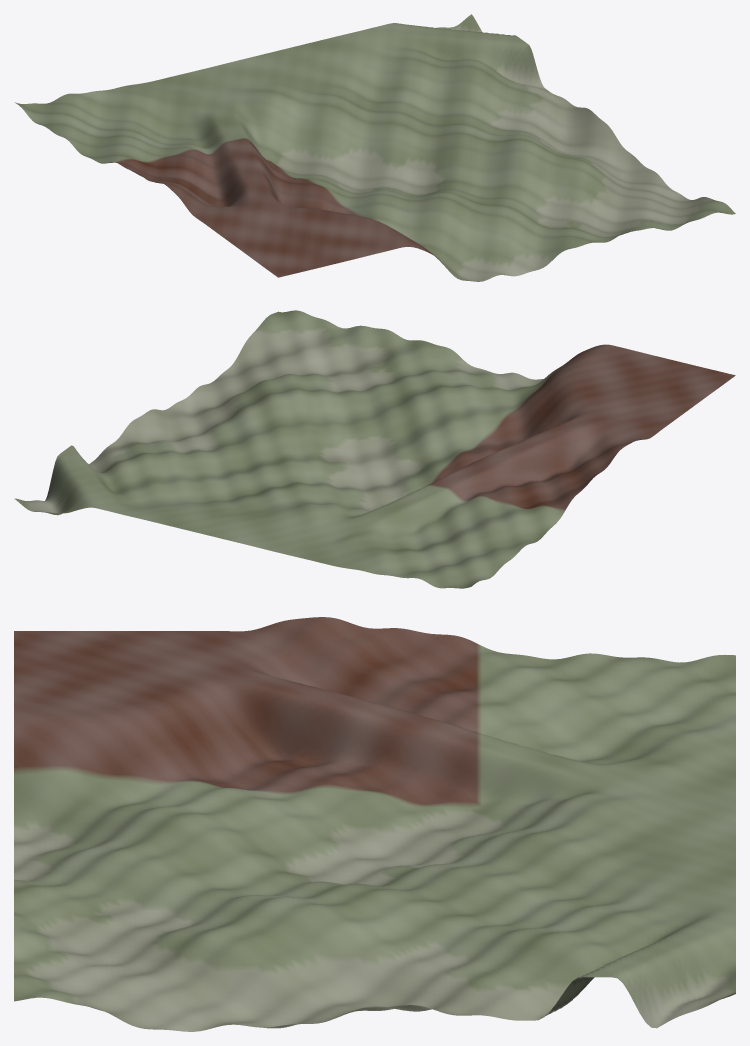
File: terrain_1_1.glb
3 renders of one model, top to bottom at view 1: azimuth 30°, elevation 25°; view 2: azimuth 150°, elevation 25°; view 3: azimuth 270°, elevation 25°, orthographic. The views are drawn at different scales.
Visible parts, largest first — view 1: terrain_1_1; view 2: terrain_1_1; view 3: terrain_1_1.
Part boxes in pixels (x1,y1,x2,y2): terrain_1_1: (15, 14, 735, 281); terrain_1_1: (14, 310, 735, 588); terrain_1_1: (14, 617, 735, 1031).
Bounding box in the file's own units: 512 × 88.07 × 512.
